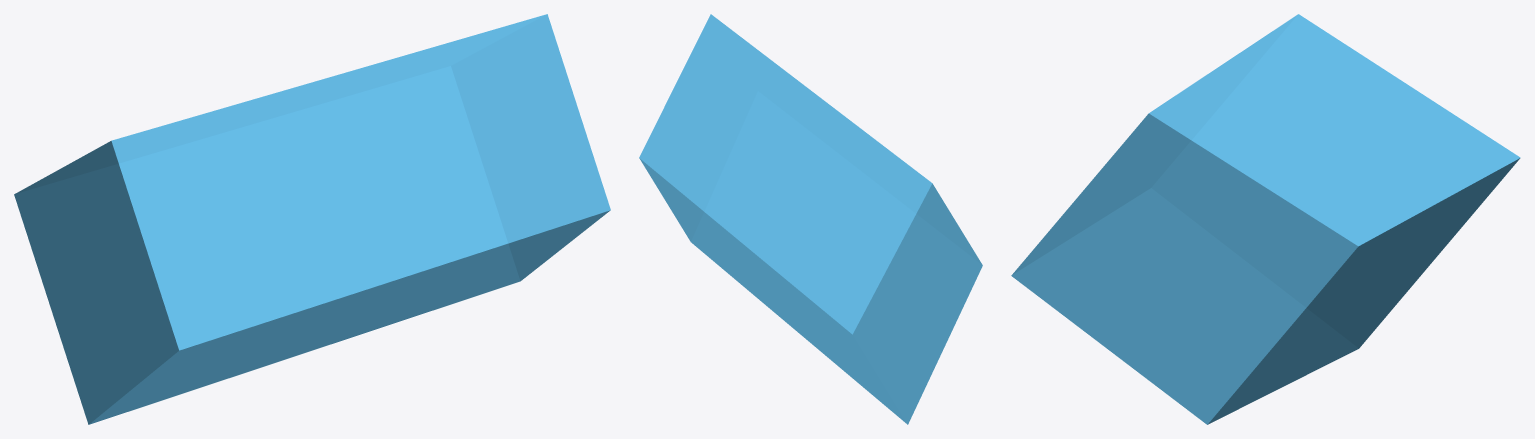
File: Event_421278790_HErechit_24.fbx
3 renders of one model, left to right at view 1: azimuth 30°, elevation 25°; view 2: azimuth 150°, elevation 25°; view 3: azimuth 270°, elevation 25°, orthographic. The views are drawn at different scales.
Visible parts, largest first — view 1: Model; view 2: Model; view 3: Model.
Part boxes in pixels (box(x1,y1,x2,y2)): Model: box(14, 14, 610, 424); Model: box(639, 14, 982, 424); Model: box(1011, 14, 1520, 424).
Size of the model in its own units: 0.7821 by 0.8012 by 0.8665.
